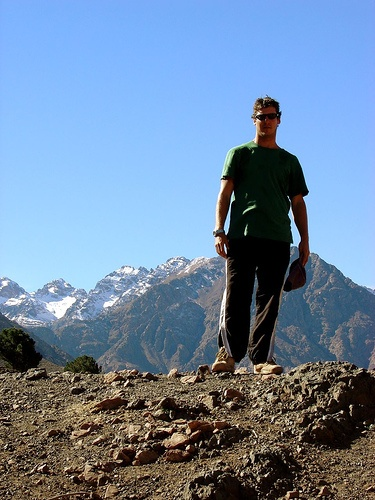person: (213, 95, 311, 375)
person/foot: (211, 356, 235, 372), (254, 363, 283, 376)
person/hand: (214, 235, 231, 258), (299, 241, 310, 267)
person/head: (251, 97, 279, 138)
